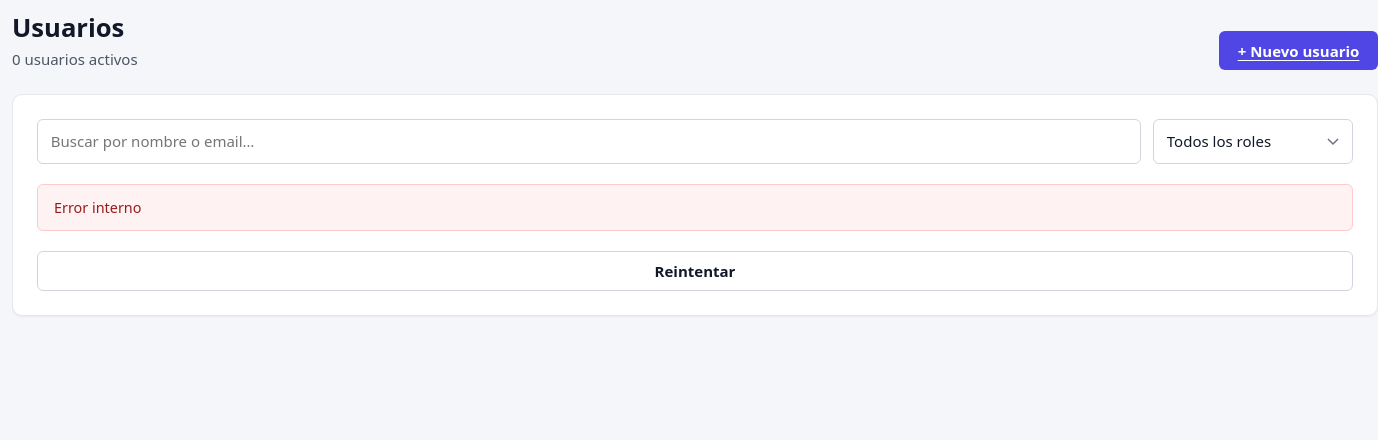
Test: UsersView › muestra el error y permite reintentar
This screenshot has width=1378, height=440.
expect the message with test id "alert" reads "Error interno": met, box [54, 198, 142, 217]
Click the button with test id "users-retry" at {"x": 695, "y": 271}, box [37, 251, 1353, 291]
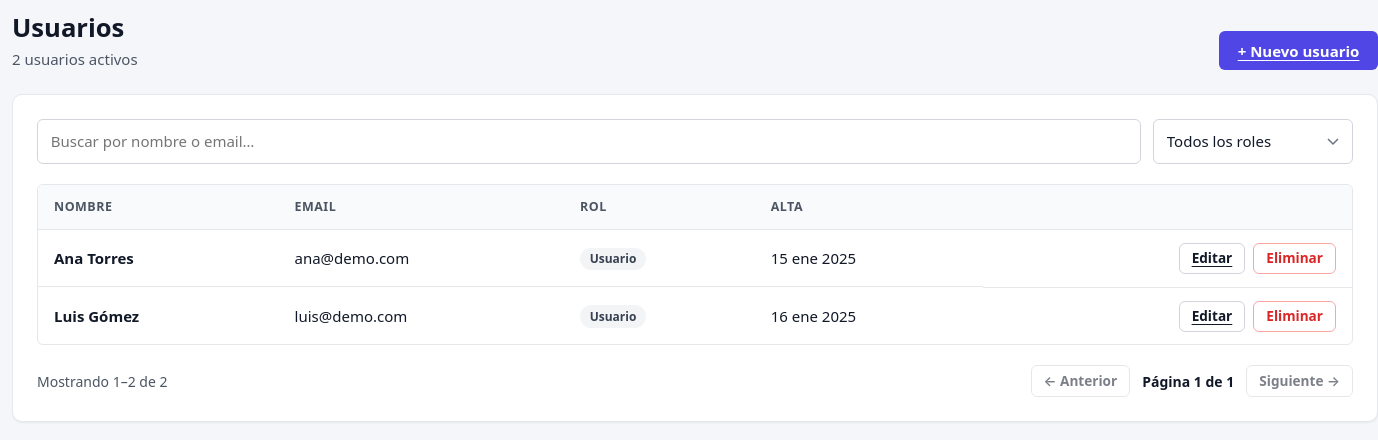
expect the number of rows with test id "user-row" is 2: met, box [38, 230, 1352, 287]; [38, 287, 1352, 344]
